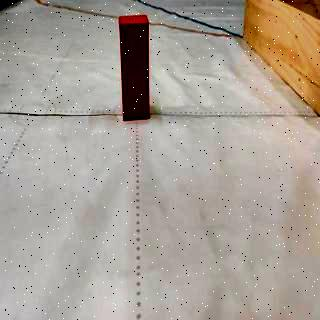redbox: (118, 14, 154, 122)
